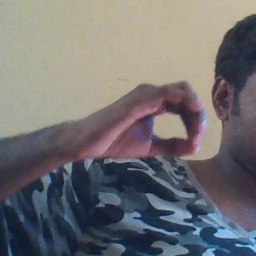O: (89, 81, 209, 162)
